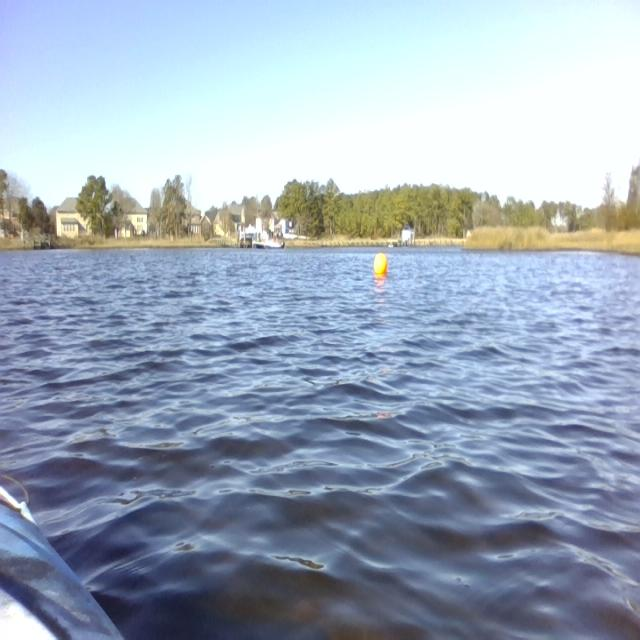Buoy: (368, 246, 391, 282)
